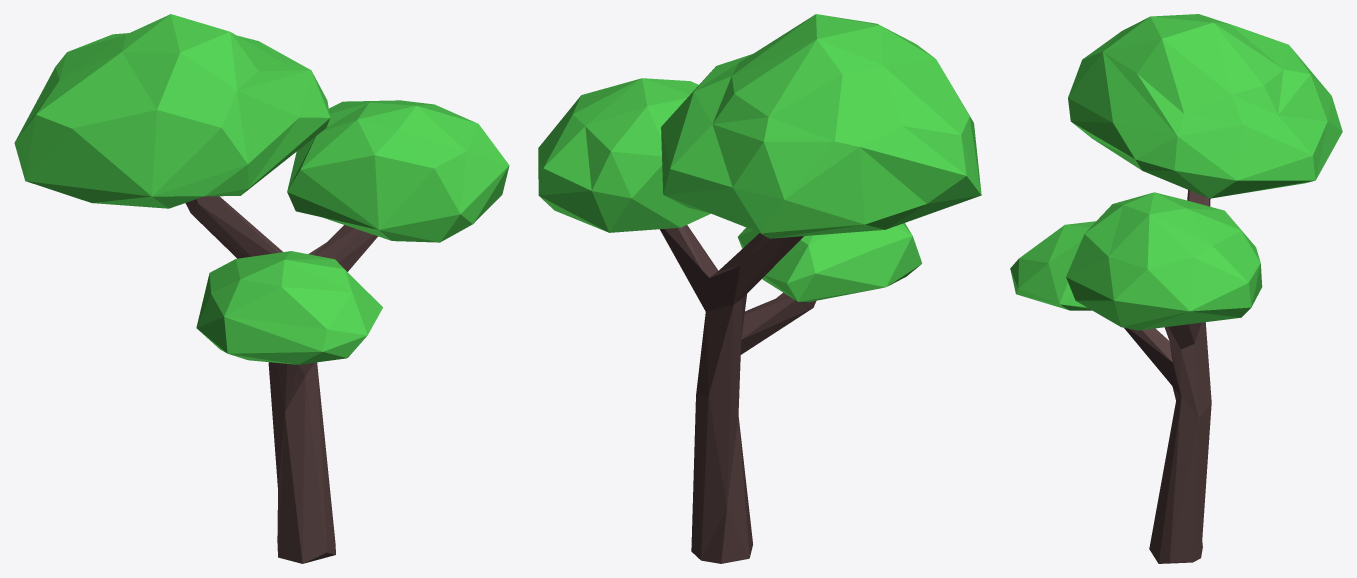
3 renders of one model, left to right at view 1: azimuth 30°, elevation 25°; view 2: azimuth 150°, elevation 25°; view 3: azimuth 270°, elevation 25°, orthographic. The views are drawn at different scales.
Parts seen in each view (by area): view 1: leaves_Icosphere, trunk_Cube; view 2: leaves_Icosphere, trunk_Cube; view 3: leaves_Icosphere, trunk_Cube.
Part boxes in pixels (x1,y1,x2,y2): leaves_Icosphere: (14,14,509,364); trunk_Cube: (185,196,377,563); leaves_Icosphere: (538,14,981,302); trunk_Cube: (660,225,816,563); leaves_Icosphere: (1010,14,1342,330); trunk_Cube: (1124,190,1211,563).
Size of the model in its own units: 734 by 872 by 543.
